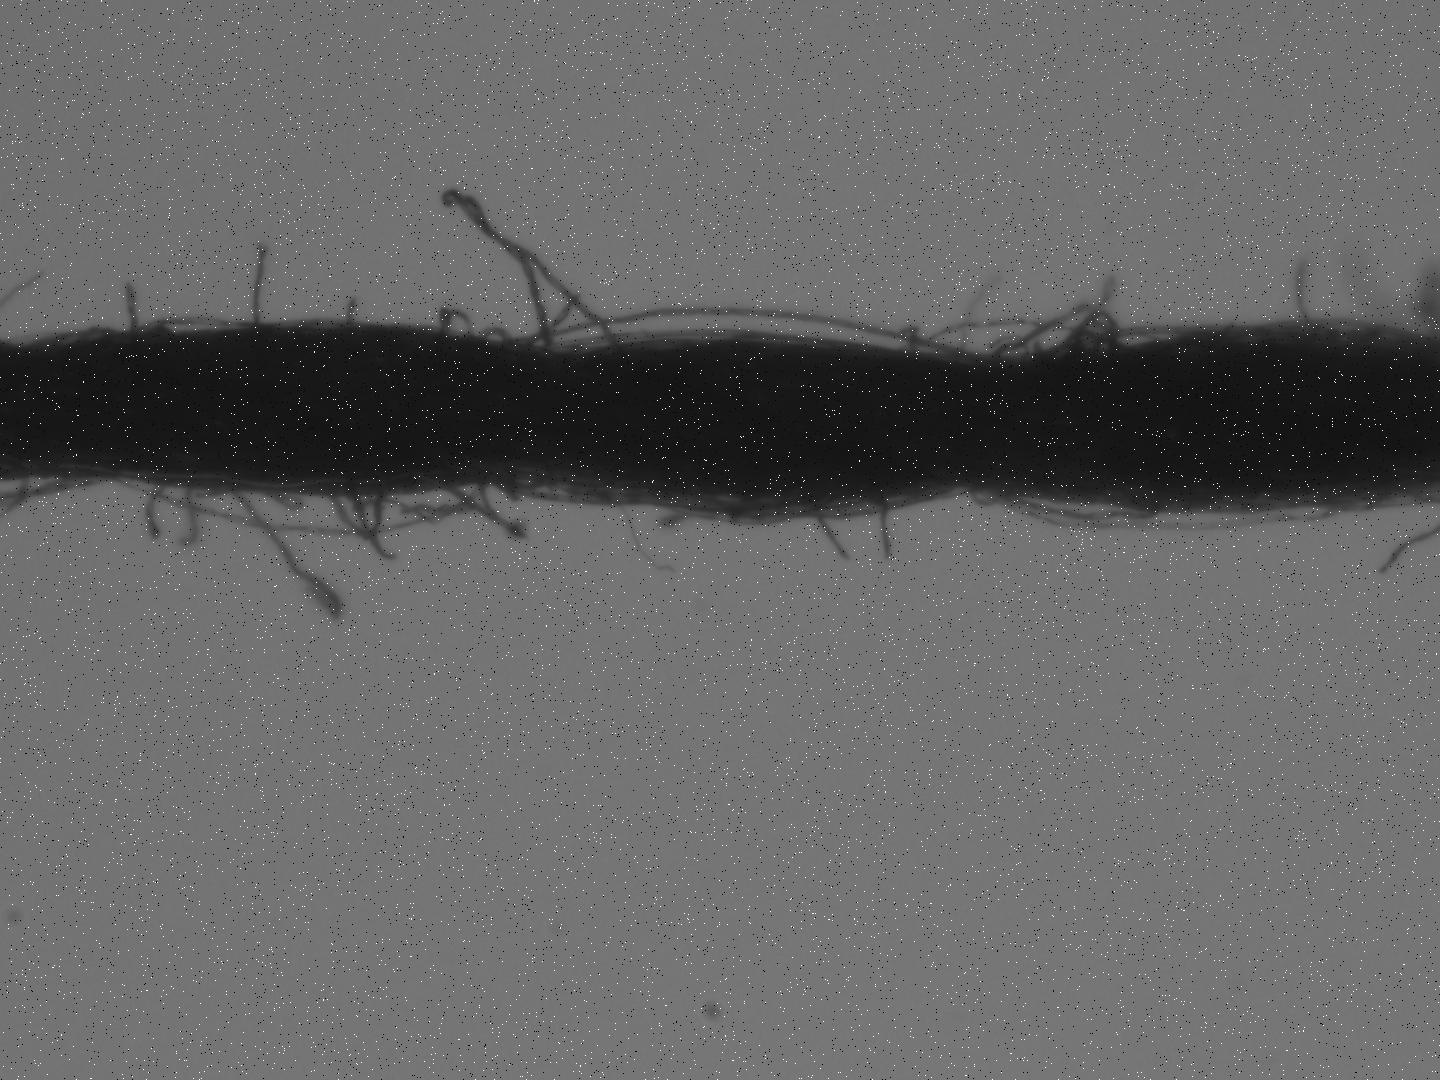loop_fiber: (449, 187, 622, 356), (528, 305, 975, 357), (117, 476, 483, 538), (997, 488, 1346, 532), (350, 478, 483, 524), (1015, 492, 1163, 525), (331, 482, 392, 545), (1095, 321, 1219, 352), (1060, 307, 1123, 351), (441, 303, 474, 343), (475, 323, 519, 345)
protruding_fiber: (236, 487, 341, 618), (345, 483, 397, 559), (1296, 256, 1325, 336), (813, 508, 855, 564), (865, 491, 892, 560), (249, 244, 265, 320), (124, 286, 142, 334), (349, 295, 358, 315)
